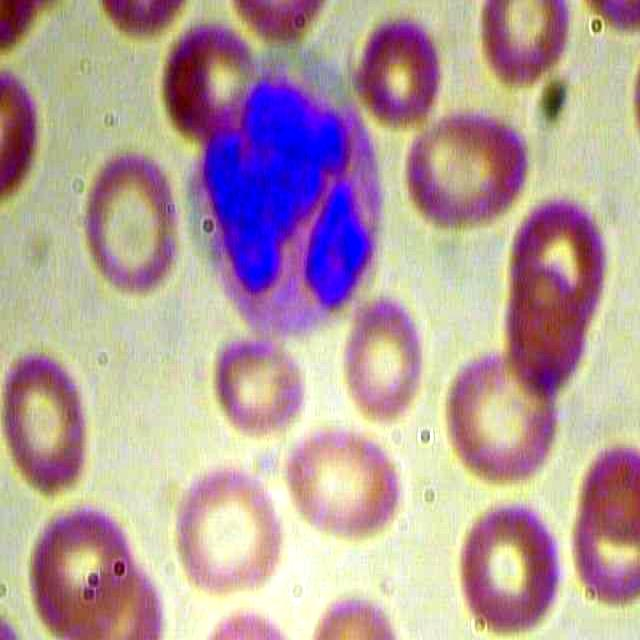RBC: (72, 140, 182, 305), (435, 345, 562, 483), (167, 464, 289, 599), (23, 502, 142, 640), (287, 415, 409, 549), (450, 498, 562, 640), (404, 115, 532, 228), (1, 347, 89, 504), (206, 329, 320, 440), (160, 13, 256, 143), (351, 8, 447, 137), (509, 196, 605, 325), (340, 287, 429, 424), (474, 1, 571, 103)
WBC: (187, 59, 394, 353)
